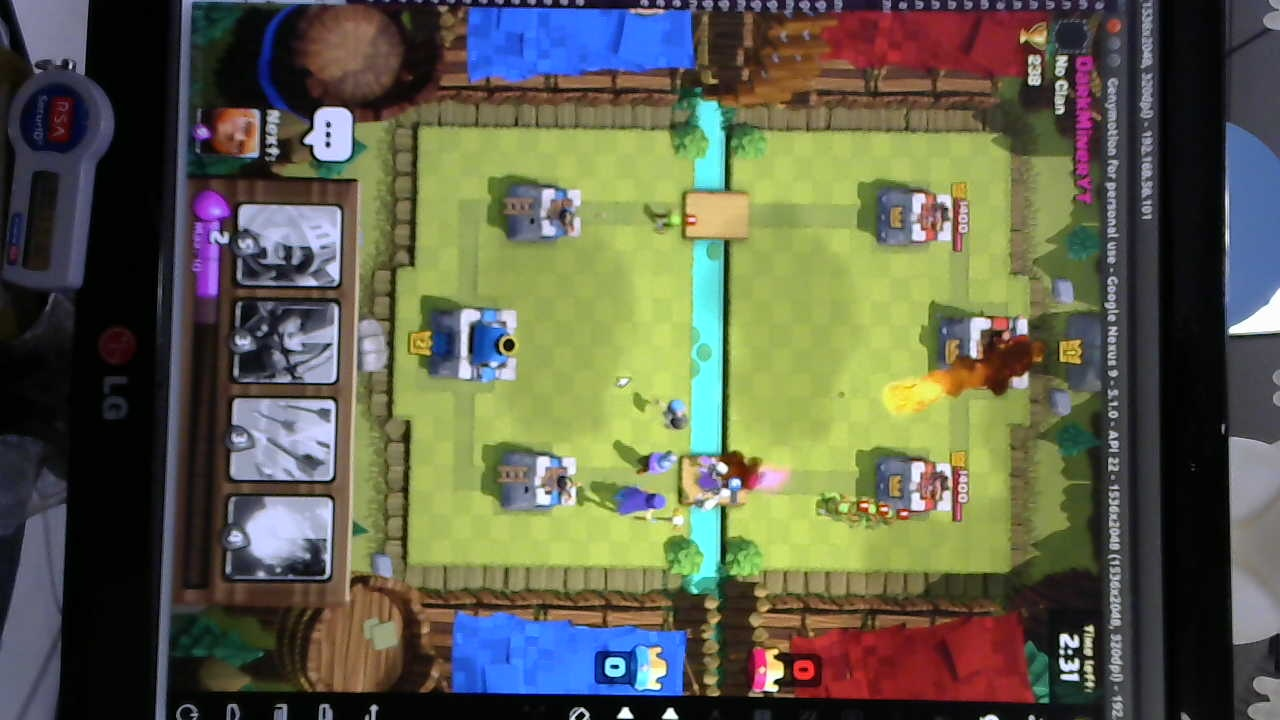arena: (500, 180, 585, 247), (501, 449, 581, 513)
bomb: (657, 399, 691, 433)
earena: (875, 452, 958, 523), (880, 185, 963, 251)
eking: (938, 311, 1041, 393)
goblin: (642, 208, 693, 239)
king: (426, 304, 517, 388)
musketeer: (627, 449, 682, 479)
skeleton: (700, 454, 740, 518)
speargoblins: (813, 490, 912, 532)
witch: (611, 488, 686, 531)
